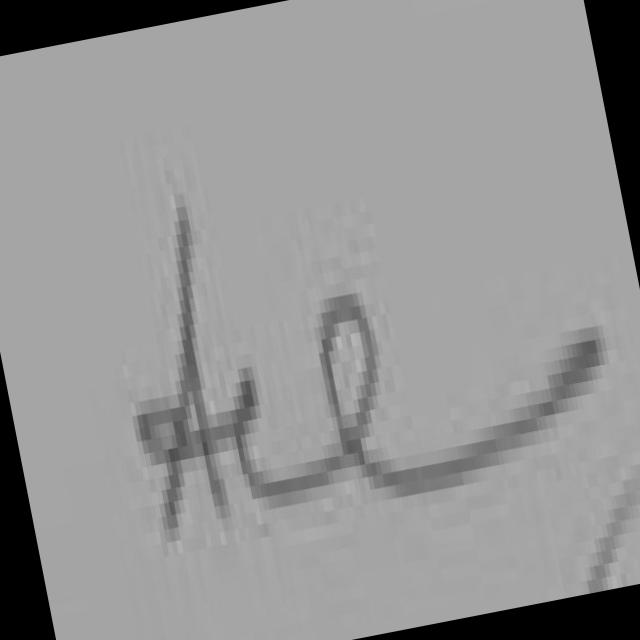A: (137, 203, 227, 543)
c: (225, 374, 345, 514)
e: (319, 287, 608, 502)
